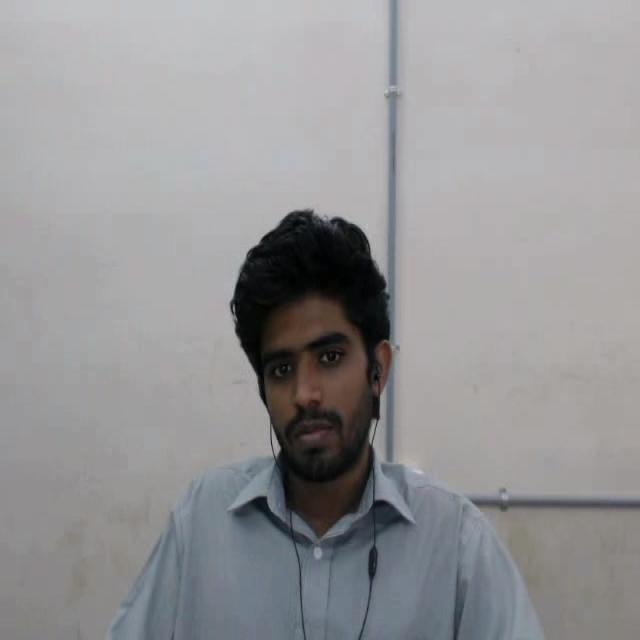Engaged: (212, 199, 434, 520)
